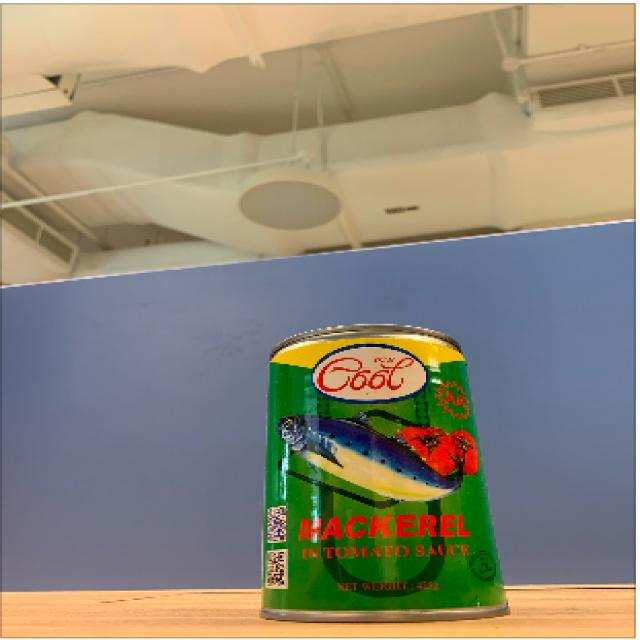object_name: (269, 324, 511, 619)
